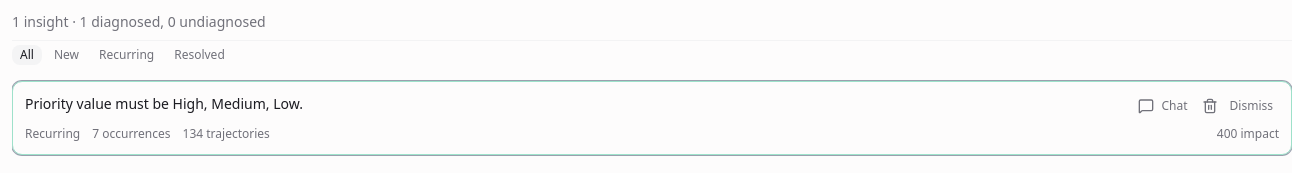
it: InsightsView › keeps its tabs when a status matches nothing in an embedded run
The image size is (1292, 173).
Click the button "Resolved" at coordinates (200, 55), box [166, 45, 233, 65]
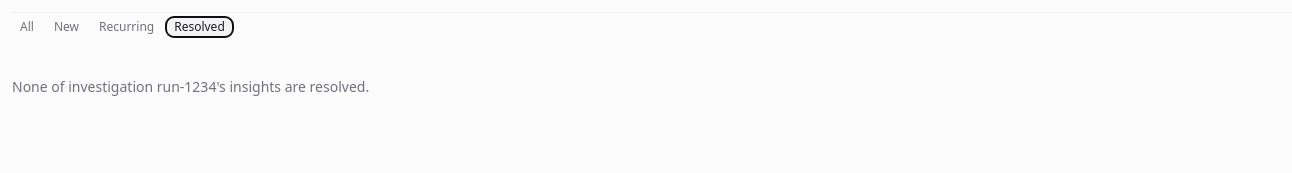
Expected: the text "None of investigation run-1234's insights are resolved." is shown, [12, 77, 369, 96]
Click the button "All" at coordinates (27, 27), box [12, 17, 42, 37]
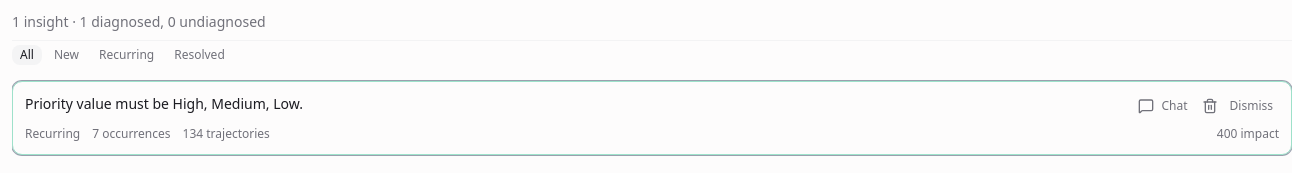
Expected: the text "Priority value must be High, Medium, Low." is shown, [25, 94, 303, 114]
